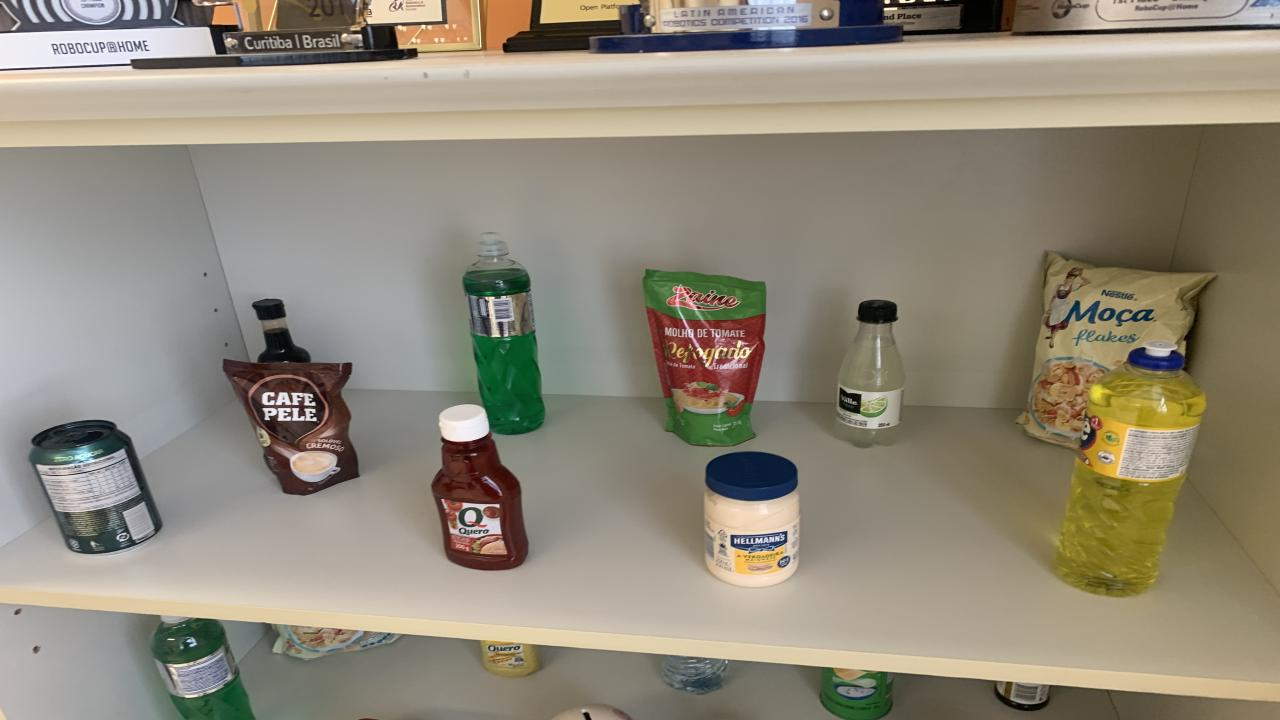Coffee-Pantry_Items: (222, 360, 360, 495)
Detergent-Cleanup_Items: (1055, 341, 1205, 596), (462, 232, 545, 435), (150, 617, 255, 720)
English_Sauce-Pantry_Items: (252, 298, 310, 364), (995, 681, 1050, 711)
Flakes-Snacks: (1018, 251, 1215, 448), (272, 624, 400, 660)
Guarana_Can-Drinks: (30, 420, 162, 555)
Ketchup-Pantry_Items: (432, 405, 528, 570)
Mayonnaise-Pantry_Items: (705, 452, 800, 587)
Mustard-Pantry_Items: (480, 641, 542, 677)
Pig_Safe-Miscellaneous: (552, 703, 632, 720)
Pringles-Snacks: (820, 668, 892, 720)
Soda-Drinks: (835, 300, 905, 448)
Tomato_Sauce-Pantry_Items: (642, 270, 765, 446)
Water_Bottle-Drinks: (660, 654, 728, 694)
